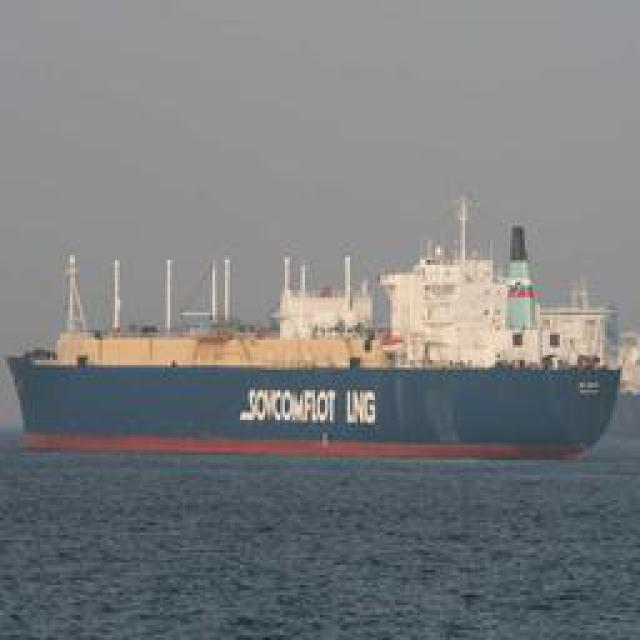Ship: (14, 248, 629, 463)
